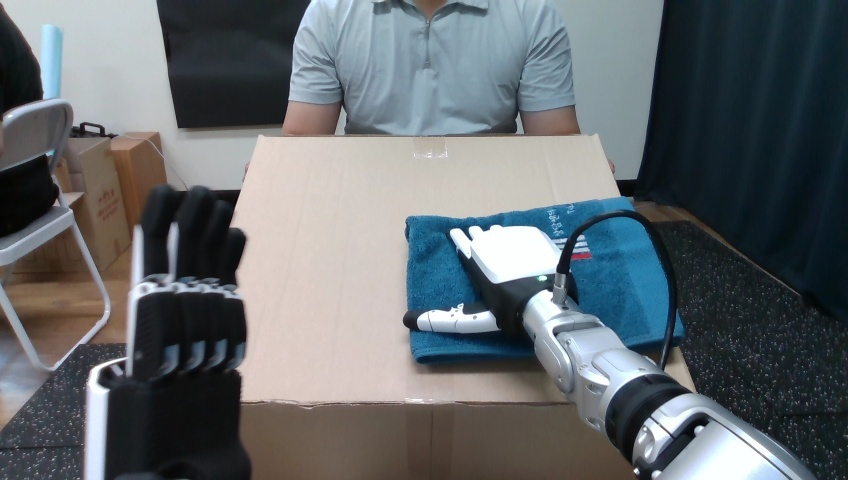left robot hand: (404, 209, 813, 479), (84, 185, 250, 478), (569, 219, 668, 369)
